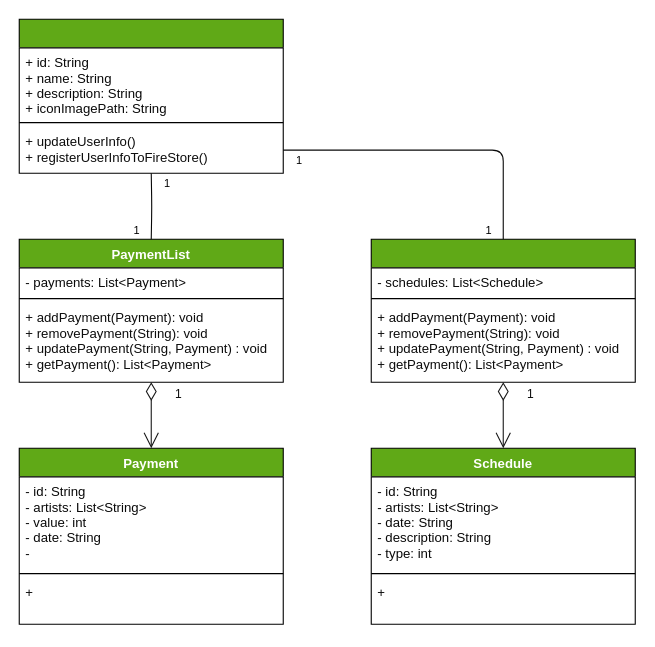
Some shapes in this 655 by 647 pixel diagram are drawn without their labels. The shapes that lost their labels are listed below. From the top down, each one's box as (x1, y1, x2, y2) in pixels, then its label:
(18, 18, 283, 173): OriginUser
(370, 238, 635, 382): ScheduleList
